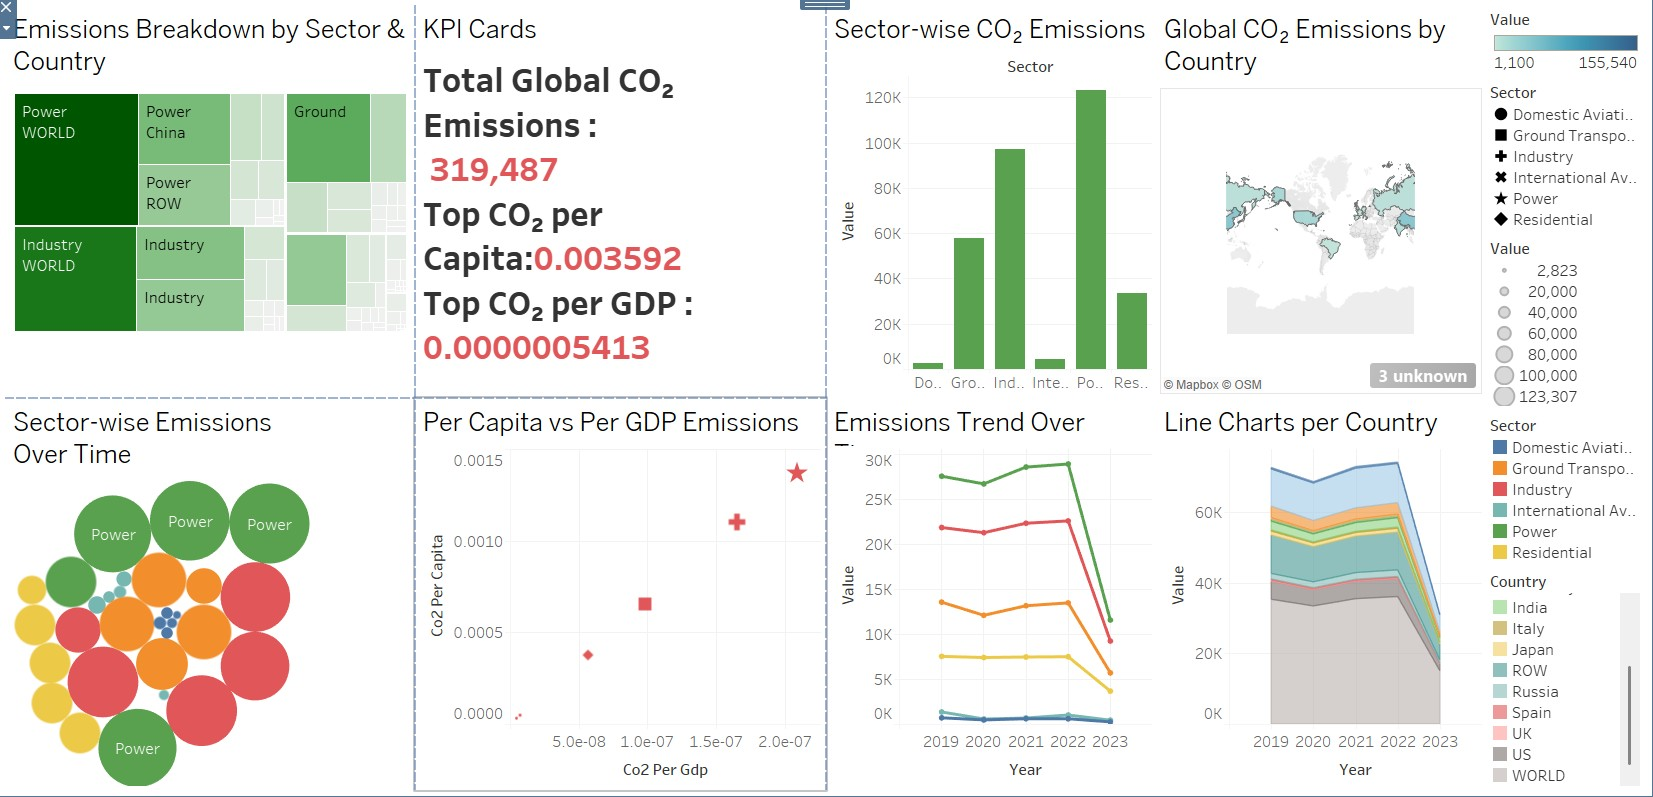

The page's visual inventory and layout, read from the dashboard file:
{"tool":"tableau","page":{"name":"Dashboard 1","canvas":[1000,1000],"units":"permille","ordinal":0},"visuals":[{"type":"worksheet","title":"Sheet 5","mark":"Automatic","box":[4.8,10,247.6,490]},{"type":"worksheet","title":"Sheet 4","mark":"Automatic","box":[252.4,10,247.6,490]},{"type":"worksheet","title":"Sheet 2","mark":"Automatic","rows":["value"],"cols":["sector"],"box":[500,10,199.3,490]},{"type":"worksheet","title":"Sheet 1","mark":"Automatic","box":[699.3,10,199.3,490]},{"type":"legend","title":"Sheet 1","param":"[federated.0t67z2j1hg8s4s1c0je1t1557xkd].[sum:value:qk]","box":[898.6,10,96.6,91.1]},{"type":"legend","title":"Sheet 7","param":"[federated.0t67z2j1hg8s4s1c0je1t1557xkd].[none:sector:nk]","box":[898.6,101.1,96.6,194.8]},{"type":"legend","title":"Sheet 7","param":"[federated.0t67z2j1hg8s4s1c0je1t1557xkd].[sum:value:qk]","box":[898.6,295.9,96.6,221]},{"type":"worksheet","title":"Sheet 6","mark":"Circle","box":[4.8,500,247.6,490]},{"type":"worksheet","title":"Sheet 7","mark":"Automatic","rows":["co2_per_capita"],"cols":["co2_per_gdp"],"box":[252.4,500,247.6,490]},{"type":"worksheet","title":"Sheet 3","mark":"Automatic","rows":["value"],"cols":["year"],"box":[500,500,199.3,490]},{"type":"worksheet","title":"Sheet 8","mark":"Area","rows":["value"],"cols":["year"],"box":[699.3,500,199.3,490]},{"type":"legend","title":"Sheet 3","param":"[federated.0t67z2j1hg8s4s1c0je1t1557xkd].[none:sector:nk]","box":[898.6,516.9,96.6,194.8]},{"type":"legend","title":"Sheet 8","param":"[federated.0t67z2j1hg8s4s1c0je1t1557xkd].[none:country:nk]","box":[898.6,711.6,96.6,278.4]}]}

Visuals, with their boxes on the dashboard's canvas, which has no fixed pixel size, in thousandths of its width and height (x1, y1, x2, y2). These are canvas units, not pixel positions in the 1653x797 screenshot, which may show the page scaled, cropped or inside an application window:
"Sheet 5" worksheet: <box>5,10,252,500</box>
"Sheet 4" worksheet: <box>252,10,500,500</box>
"Sheet 2" worksheet: <box>500,10,699,500</box>
"Sheet 1" worksheet: <box>699,10,899,500</box>
"Sheet 1" legend: <box>899,10,995,101</box>
"Sheet 7" legend: <box>899,101,995,296</box>
"Sheet 7" legend: <box>899,296,995,517</box>
"Sheet 6" worksheet (Circle marks): <box>5,500,252,990</box>
"Sheet 7" worksheet: <box>252,500,500,990</box>
"Sheet 3" worksheet: <box>500,500,699,990</box>
"Sheet 8" worksheet (Area marks): <box>699,500,899,990</box>
"Sheet 3" legend: <box>899,517,995,712</box>
"Sheet 8" legend: <box>899,712,995,990</box>
